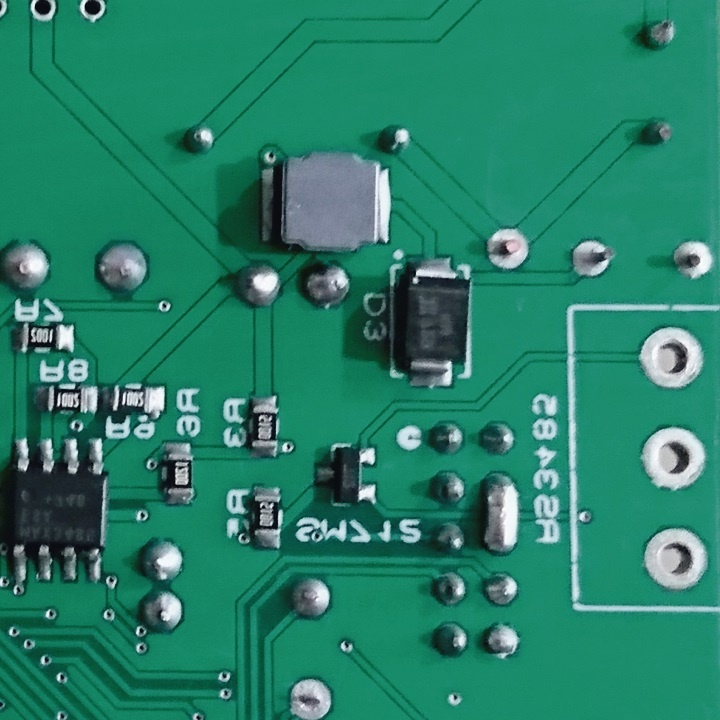F: (639, 421, 708, 494), (641, 523, 713, 592), (636, 324, 707, 392), (484, 226, 532, 275), (570, 235, 617, 285), (283, 674, 334, 720), (670, 238, 716, 284), (25, 1, 61, 26), (76, 1, 110, 26)
P: (479, 470, 523, 558)
